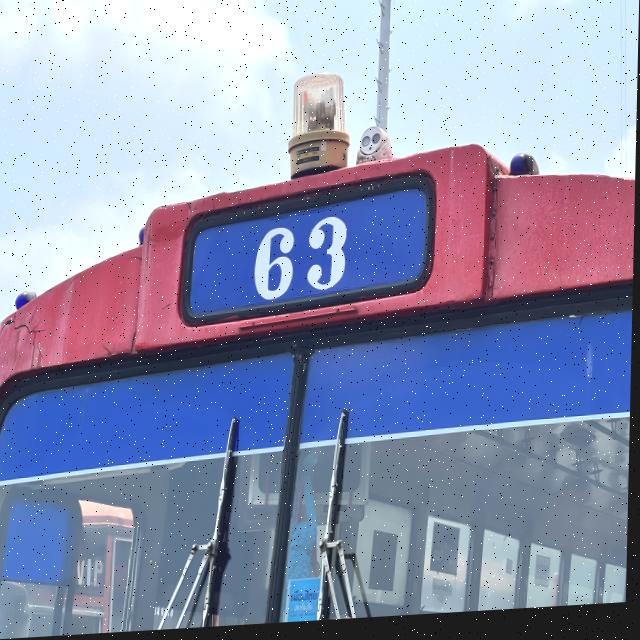BMTA-bus: (0, 78, 636, 639)
Bus Line Number: (183, 183, 437, 330)
